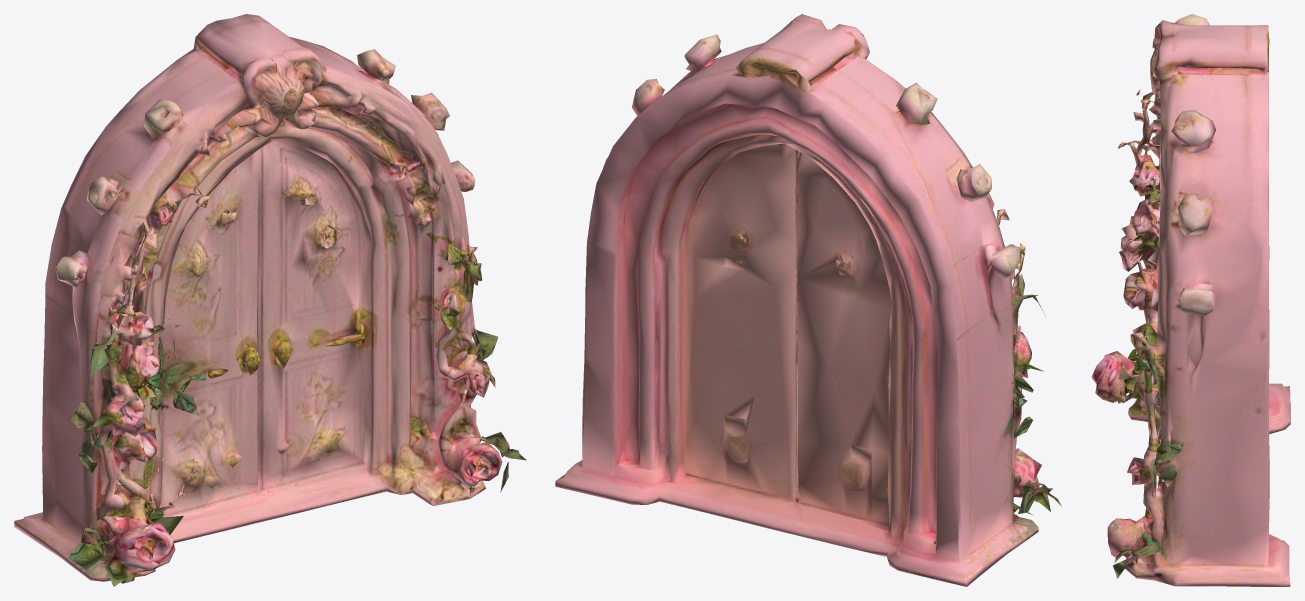
Rendered from _Object_Ornate_2.glb.
3 views of the same model, side by side, from view 1: azimuth 30°, elevation 25°; view 2: azimuth 150°, elevation 25°; view 3: azimuth 270°, elevation 25° (orthographic). The views are drawn at different scales.
Visible parts, largest first — view 1: _Object_Ornate_2; view 2: _Object_Ornate_2; view 3: _Object_Ornate_2.
Part boxes in pixels (x1=…): _Object_Ornate_2: x1=14, y1=14, x2=526, y2=586; _Object_Ornate_2: x1=555, y1=14, x2=1061, y2=586; _Object_Ornate_2: x1=1091, y1=14, x2=1290, y2=586.
Bounding box in the file's own units: 1.98 × 2 × 0.7915.
Materials: 1 (1 with a texture image).
